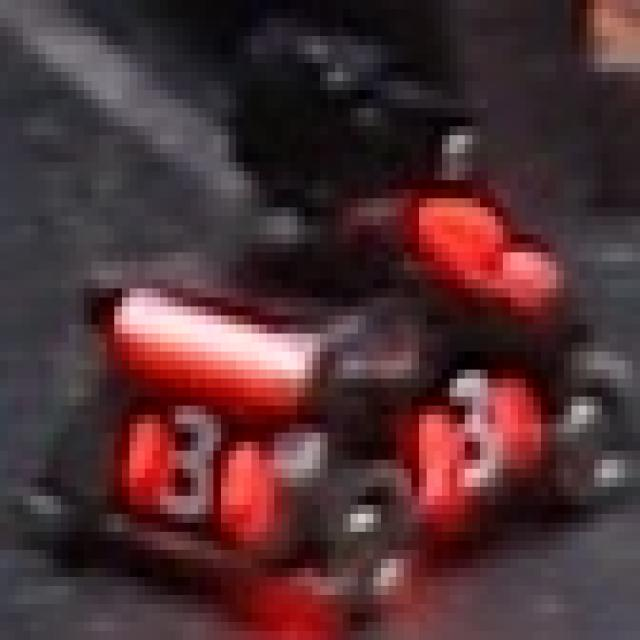R3: (114, 396, 267, 532), (404, 370, 541, 496)
